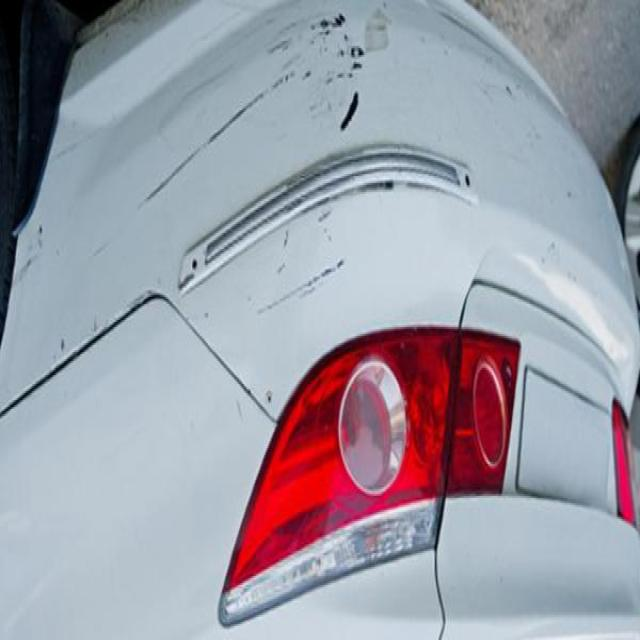scratch: (137, 60, 299, 204), (247, 246, 348, 335)
